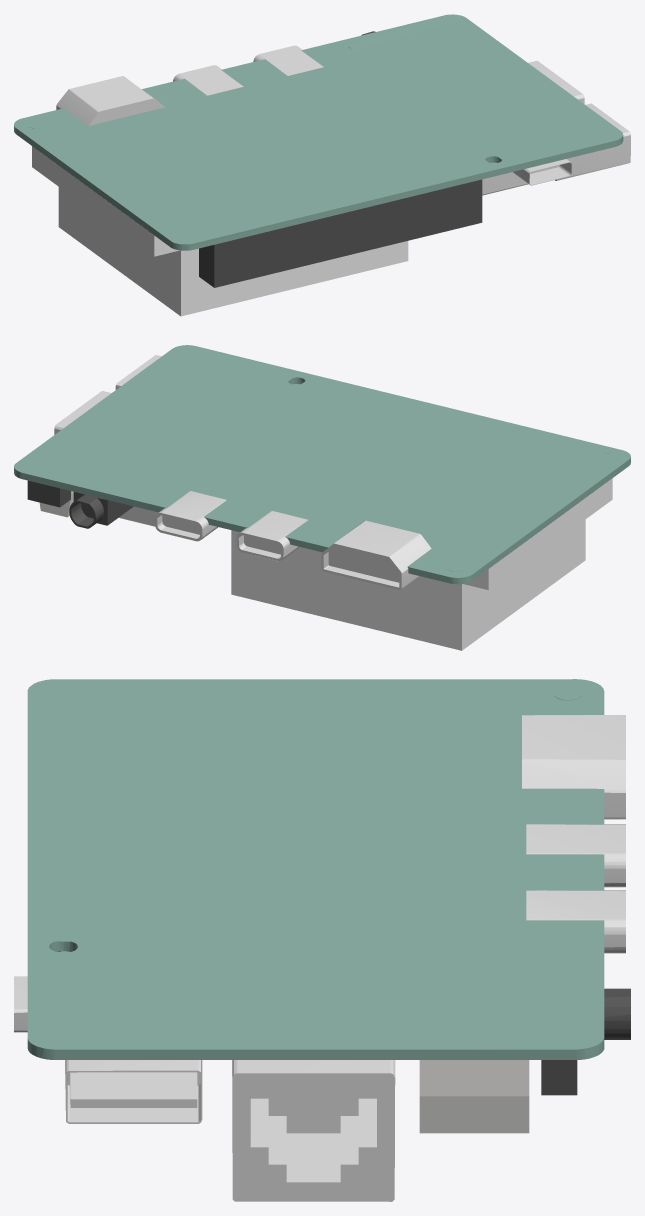
3 renders of one model, top to bottom at view 1: azimuth 30°, elevation 25°; view 2: azimuth 150°, elevation 25°; view 3: azimuth 270°, elevation 25°, orthographic. The views are drawn at different scales.
Visible parts, largest first — view 1: imagetostl_mesh2; view 2: imagetostl_mesh2; view 3: imagetostl_mesh2.
Boxes of the visible parts, x1=… form: imagetostl_mesh2: x1=14, y1=14, x2=630, y2=316; imagetostl_mesh2: x1=14, y1=345, x2=630, y2=650; imagetostl_mesh2: x1=14, y1=679, x2=630, y2=1201.
Size of the model in its own units: 8813 by 1904 by 5992.
